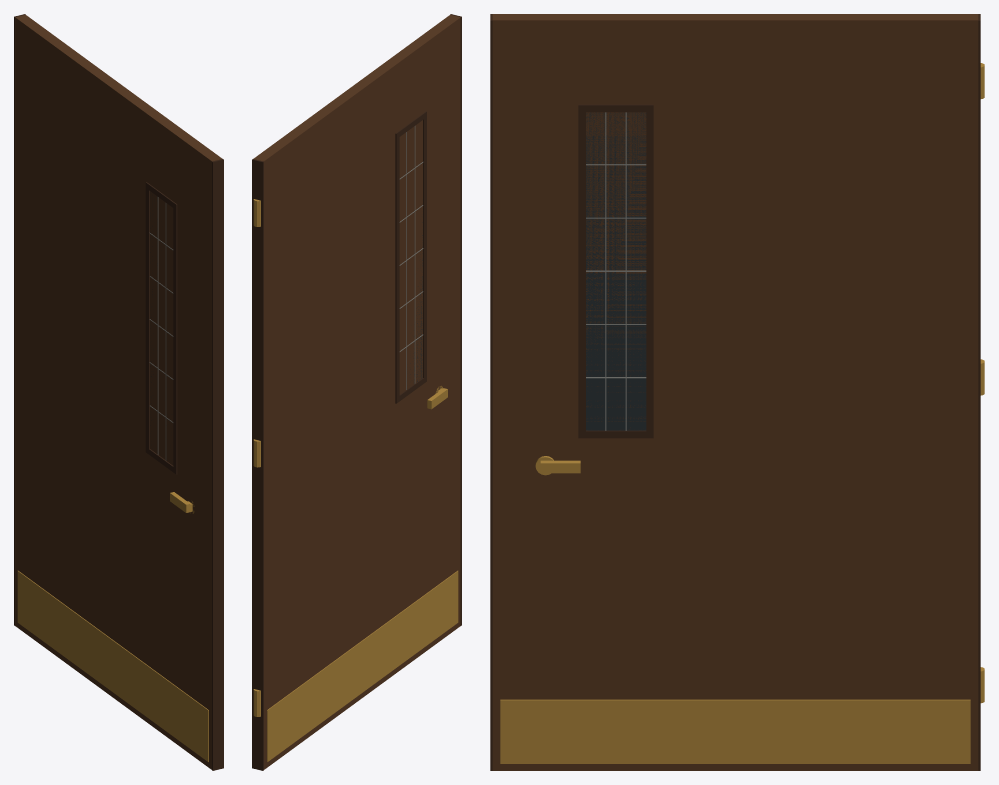
The model's file is SM_80s_RoomDoor_195.glb.
3 views of the same model, side by side, from view 1: azimuth 30°, elevation 25°; view 2: azimuth 150°, elevation 25°; view 3: azimuth 270°, elevation 25° (orthographic). The views are drawn at different scales.
Parts seen in each view (by area): view 1: SM_80s_RoomDoor_195; view 2: SM_80s_RoomDoor_195; view 3: SM_80s_RoomDoor_195.
Part boxes in pixels (<box>): SM_80s_RoomDoor_195: <box>14,14,223,770</box>; SM_80s_RoomDoor_195: <box>252,14,461,770</box>; SM_80s_RoomDoor_195: <box>490,14,984,770</box>.
Size of the model in its own units: 0.134 by 3.29 by 1.97.
